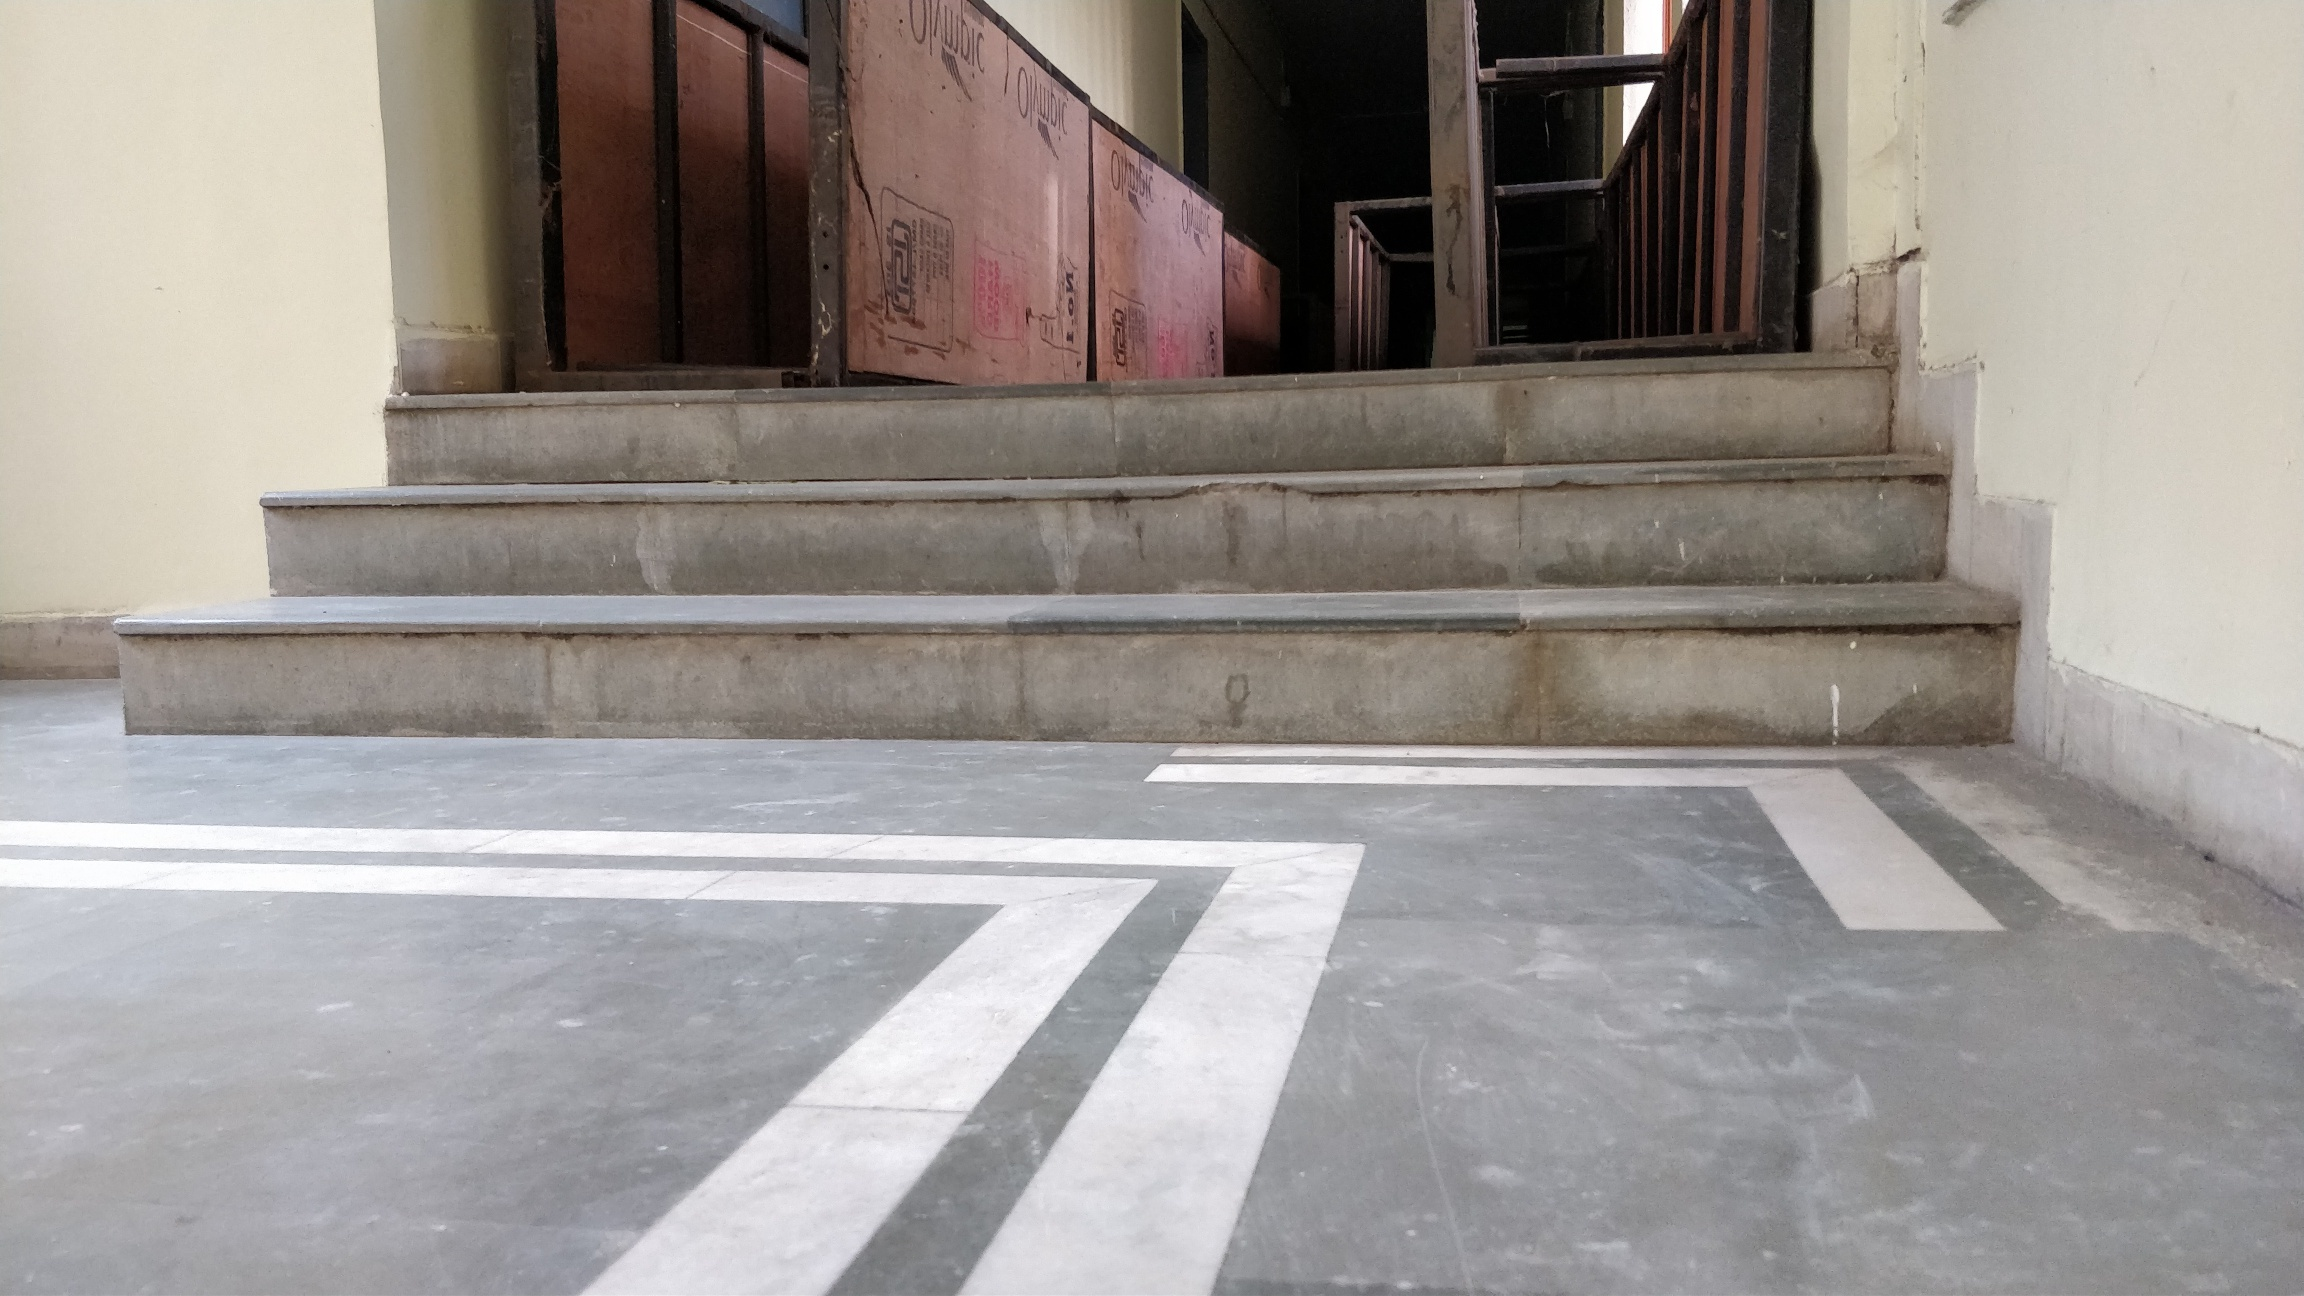stairs_up: (101, 339, 2014, 766)
